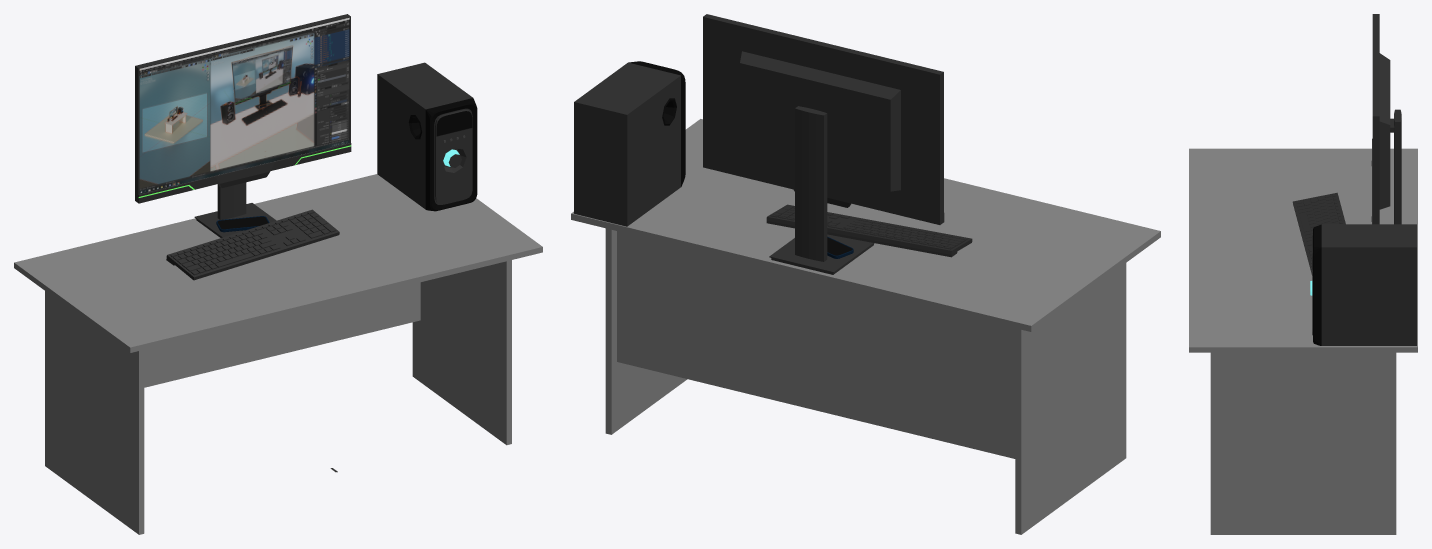
3 views of the same model, side by side, from view 1: azimuth 30°, elevation 25°; view 2: azimuth 150°, elevation 25°; view 3: azimuth 270°, elevation 25° (orthographic). The views are drawn at different scales.
Parts seen in each view (by area): view 1: Cube.012_0, monitor_12, Cube.017_8, keyboard_11, Cube.016_7; view 2: Cube.012_0, monitor_12, Cube.017_8, keyboard_11; view 3: Cube.012_0, Cube.017_8, monitor_12, keyboard_11.
Boxes of the visible parts, x1,y1,x2,y2 form: Cube.012_0: (14, 174, 542, 534); monitor_12: (135, 14, 351, 237); Cube.017_8: (377, 62, 477, 211); keyboard_11: (166, 209, 339, 280); Cube.016_7: (216, 216, 269, 232); Cube.012_0: (571, 119, 1160, 534); monitor_12: (703, 14, 944, 274); Cube.017_8: (574, 61, 685, 226); keyboard_11: (766, 204, 972, 257); Cube.012_0: (1189, 148, 1417, 534); Cube.017_8: (1310, 224, 1416, 345); monitor_12: (1371, 14, 1401, 224); keyboard_11: (1292, 192, 1345, 275).
Bounding box in the file's own units: 1.7 × 1.53 × 0.8279.
8 materials, 1 textured.
